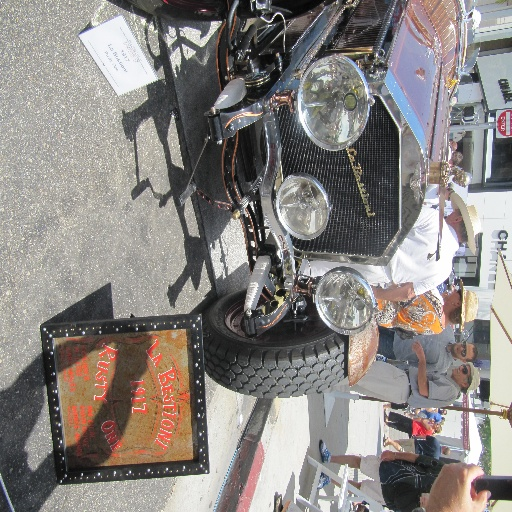hand: (425, 463, 491, 511), (410, 338, 424, 362), (379, 450, 395, 461), (419, 494, 429, 508)
